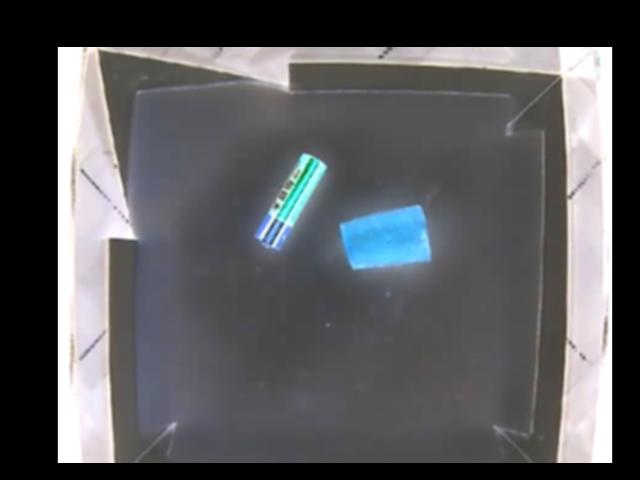Battery: (250, 154, 325, 250)
Carrot: (338, 203, 431, 270)
